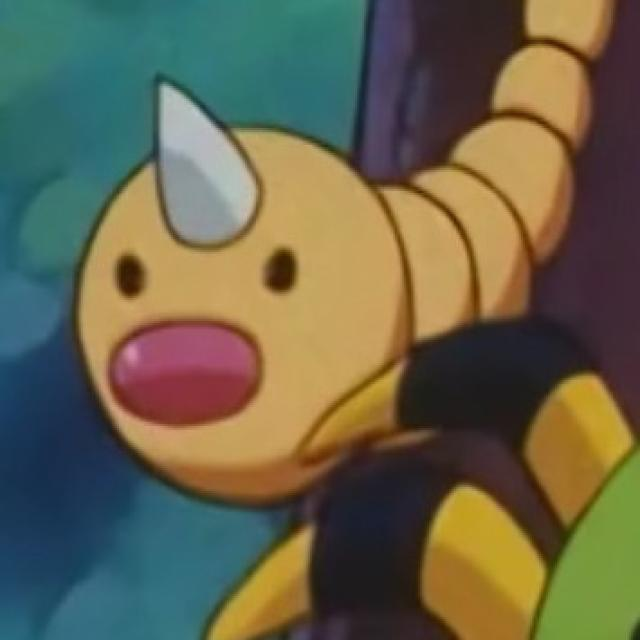Weedle: (53, 0, 640, 493)
